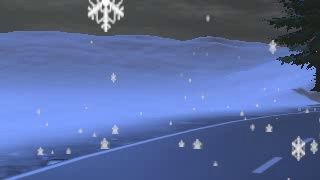Lane: (9, 108, 319, 179)
